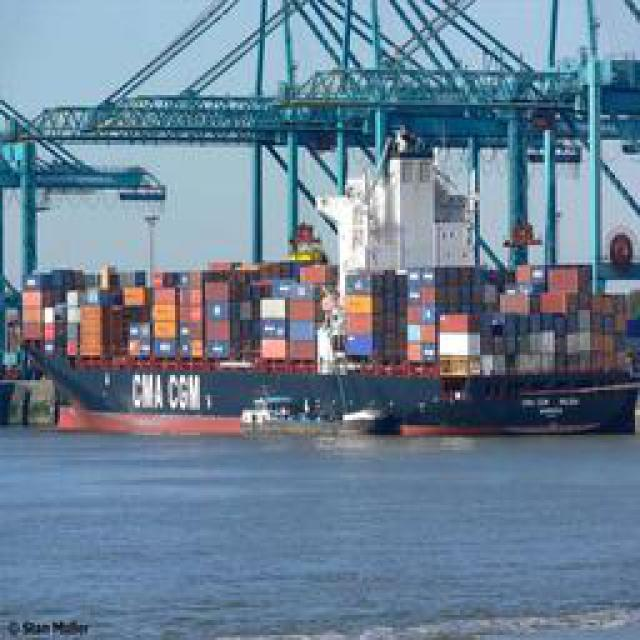Ship: (37, 367, 637, 437)
